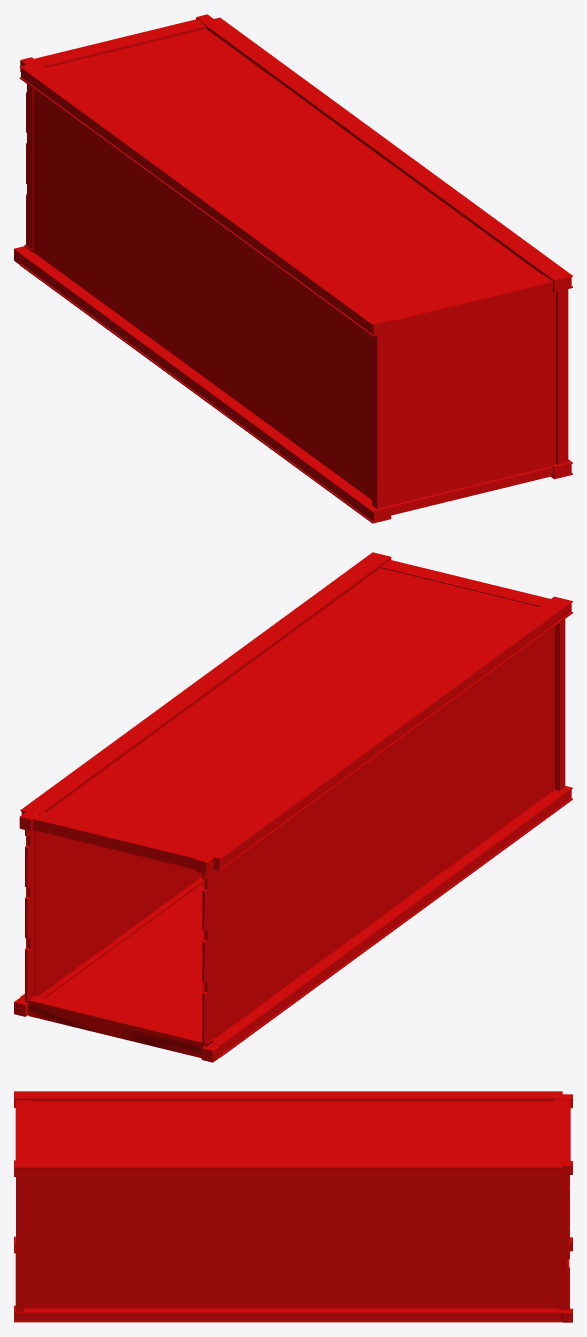
Rendered from Container_01_Lod0.fbx.
3 views of the same model, one above another, from view 1: azimuth 30°, elevation 25°; view 2: azimuth 150°, elevation 25°; view 3: azimuth 270°, elevation 25° (orthographic). The views are drawn at different scales.
Visible parts, largest first — view 1: Container_01_Lod0; view 2: Container_01_Lod0; view 3: Container_01_Lod0.
Boxes of the visible parts, left/top/right/bottom form: Container_01_Lod0: left=14, top=14, right=572, bottom=523; Container_01_Lod0: left=14, top=552, right=572, bottom=1062; Container_01_Lod0: left=14, top=1091, right=572, bottom=1322.
Size of the model in its own units: 272 by 260 by 846.
